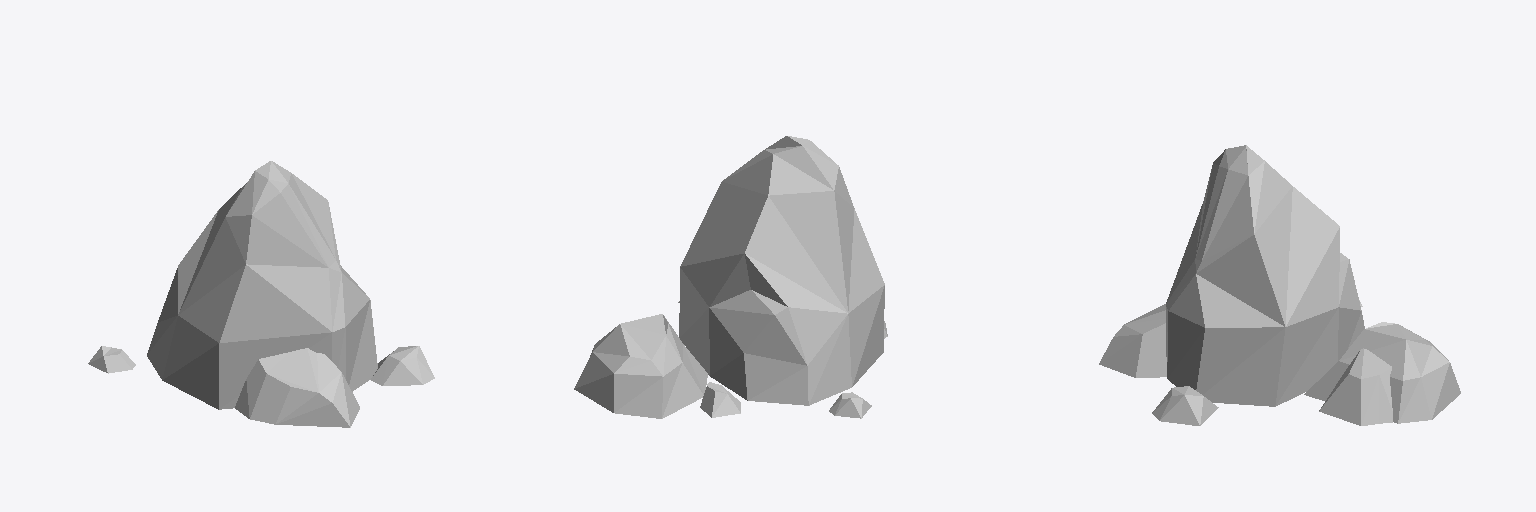
File: rocks02.obj
The picture shows the model from 3 angles: view 1: azimuth 30°, elevation 25°; view 2: azimuth 150°, elevation 25°; view 3: azimuth 270°, elevation 25°; orthographic projection.
Visible parts, largest first — view 1: Rocks02; view 2: Rocks02; view 3: Rocks02.
Part boxes in pixels (x1,y1,x2,y2): Rocks02: (88,161,434,427); Rocks02: (574,136,887,418); Rocks02: (1099,145,1460,425).
Size of the model in its own units: 4.43 by 3.5 by 5.31.